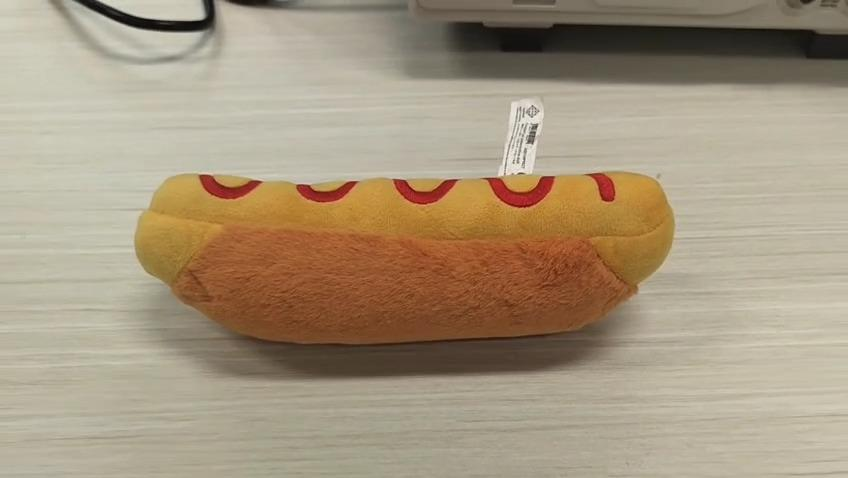hotdog: (133, 173, 675, 346)
